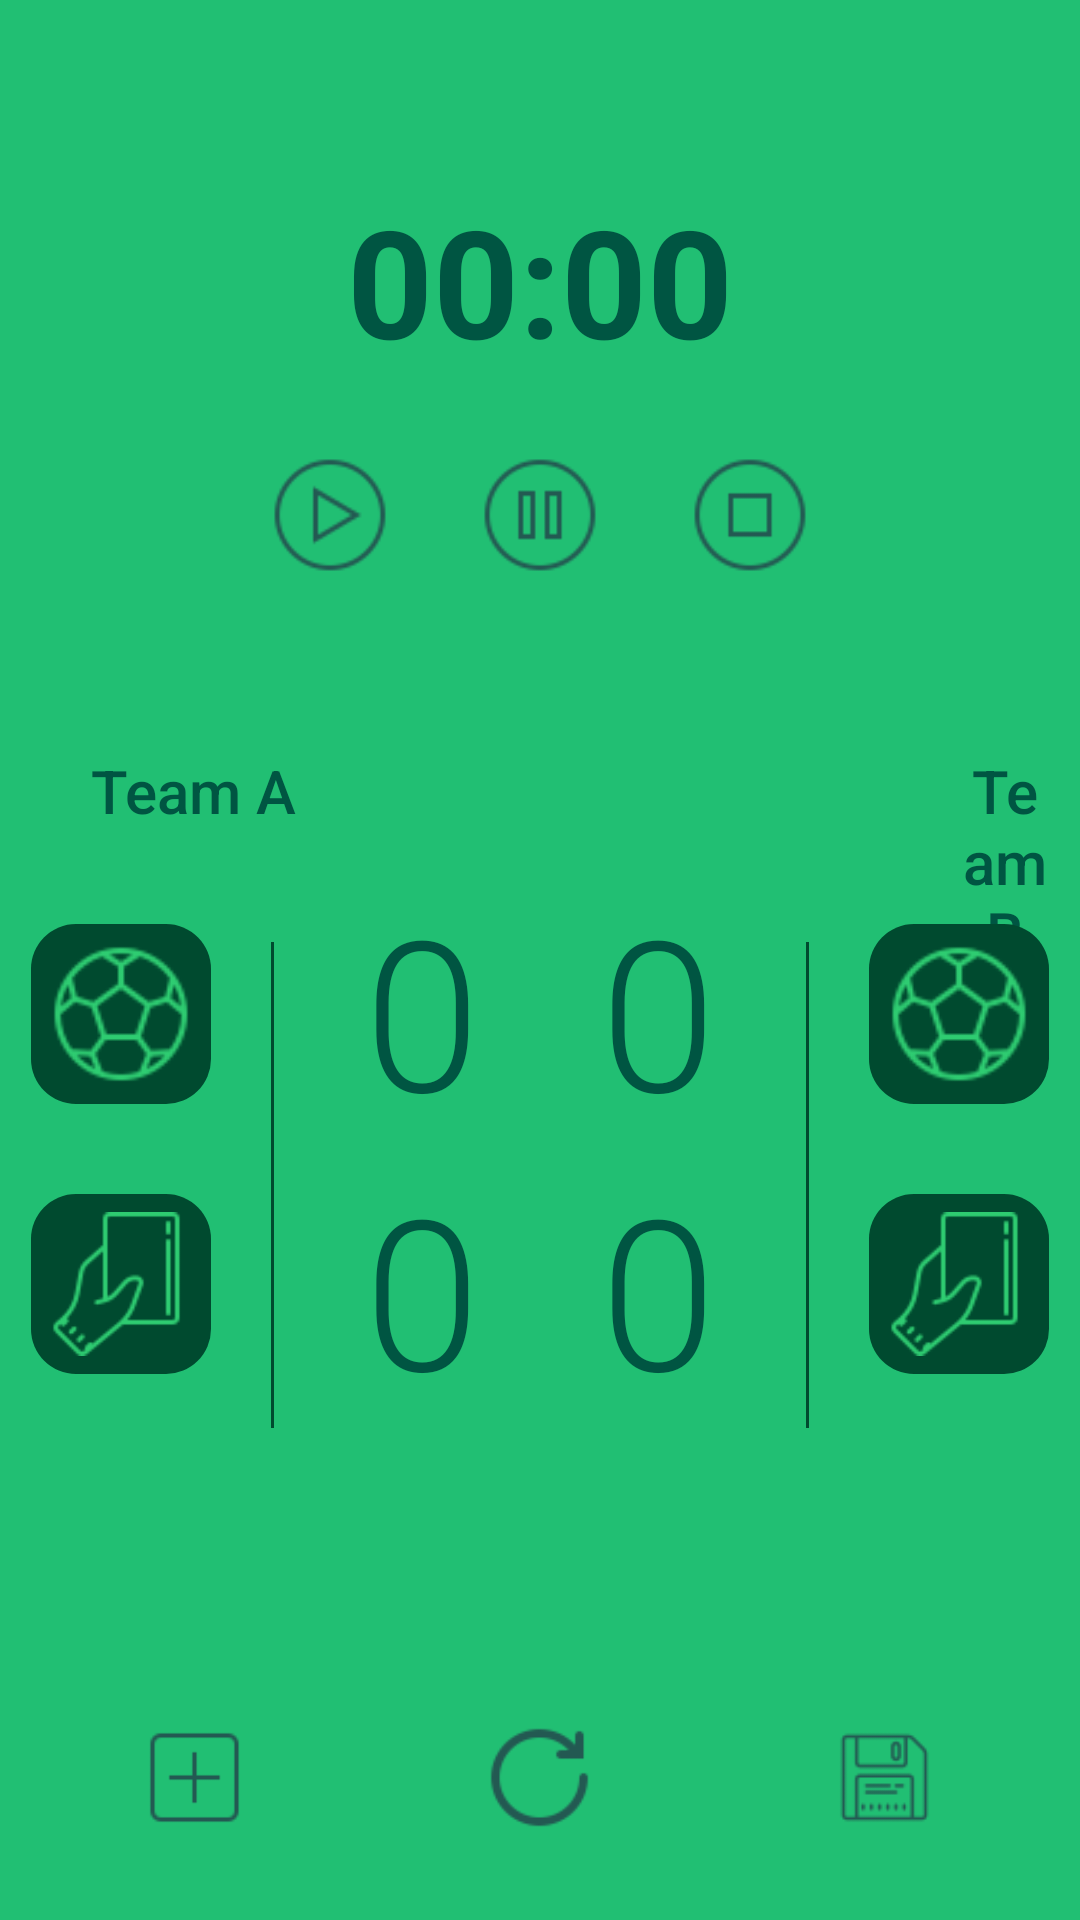

Named icons in this screenshot (1080*1920) and their bounding boxes, rect(x1, y1, x2, y2):
addnew: rect(150, 1733, 239, 1822)
foul: rect(31, 1194, 211, 1374), rect(869, 1194, 1049, 1374)
goal: rect(31, 924, 211, 1104), rect(869, 924, 1049, 1104)
pause: rect(484, 459, 596, 571)
play: rect(274, 459, 386, 571)
reset: rect(491, 1729, 588, 1826)
save: rect(841, 1734, 928, 1821)
stop: rect(694, 459, 806, 571)
